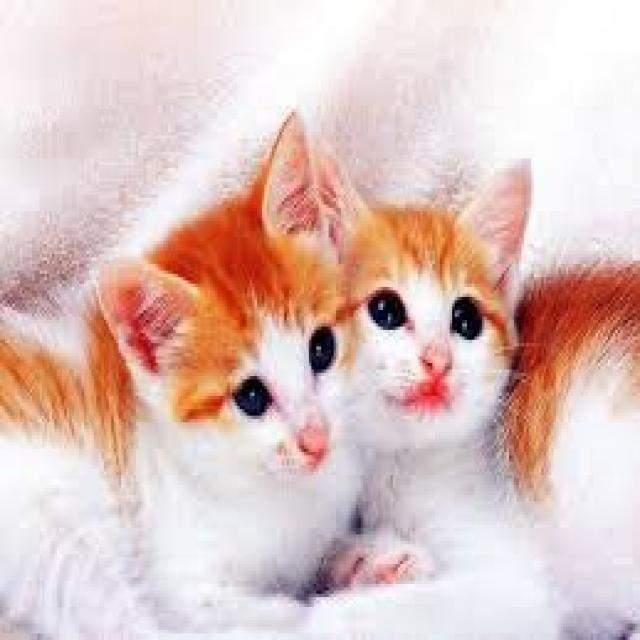Cat: (0, 110, 354, 602), (315, 131, 634, 546)
